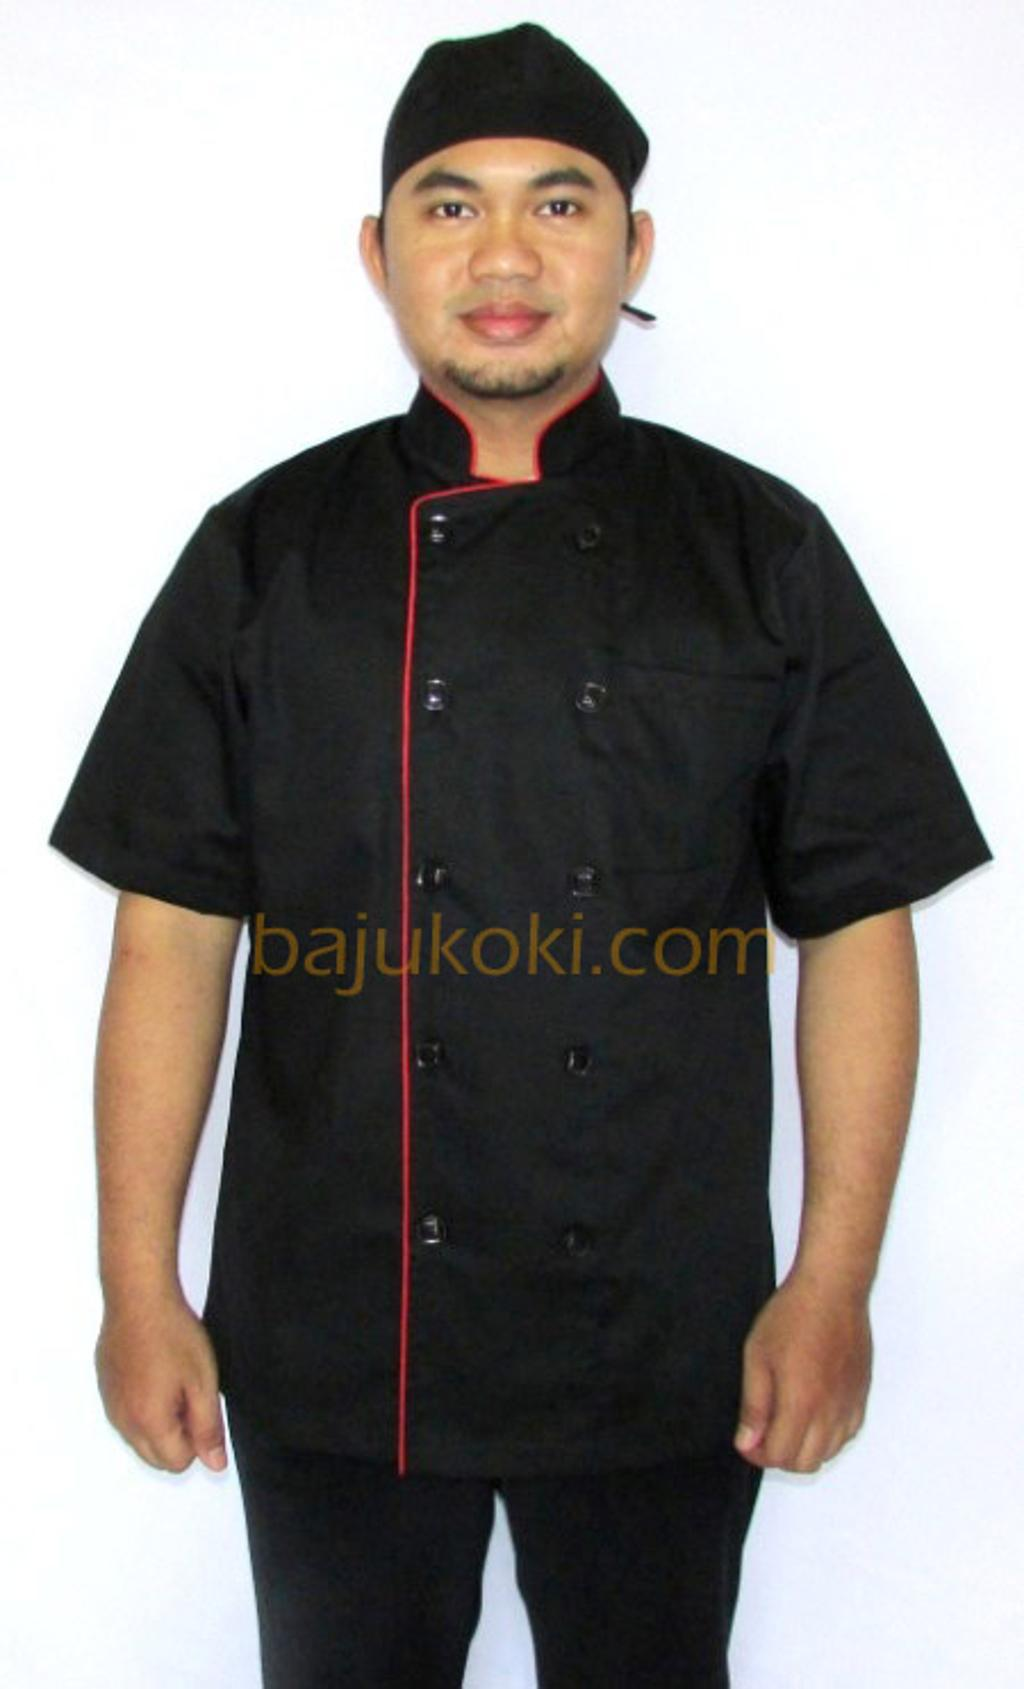face: (386, 96, 626, 392)
